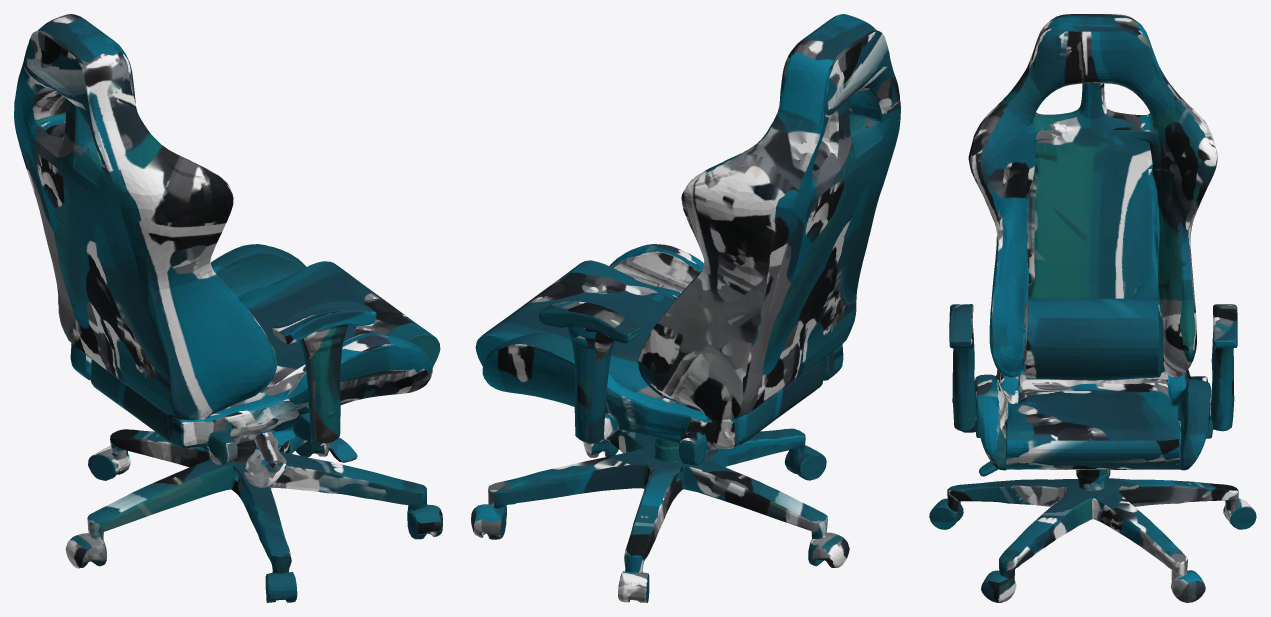
The model's file is computer_chair_41.obj.
3 views of the same model, side by side, from view 1: azimuth 30°, elevation 25°; view 2: azimuth 150°, elevation 25°; view 3: azimuth 270°, elevation 25° (orthographic). The views are drawn at different scales.
Bounding box in the file's own units: 0.851 × 1.3 × 0.8404.
